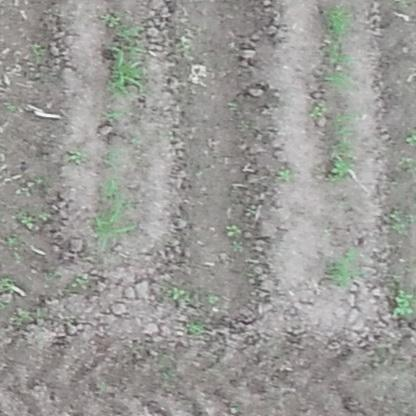corn: (320, 8, 355, 84), (89, 194, 135, 248), (107, 44, 143, 98), (325, 248, 363, 288)
vc: (394, 285, 414, 316), (224, 224, 242, 237), (168, 286, 184, 299), (209, 292, 219, 302)
